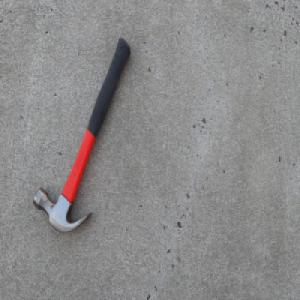Hammer: (31, 36, 131, 235)
